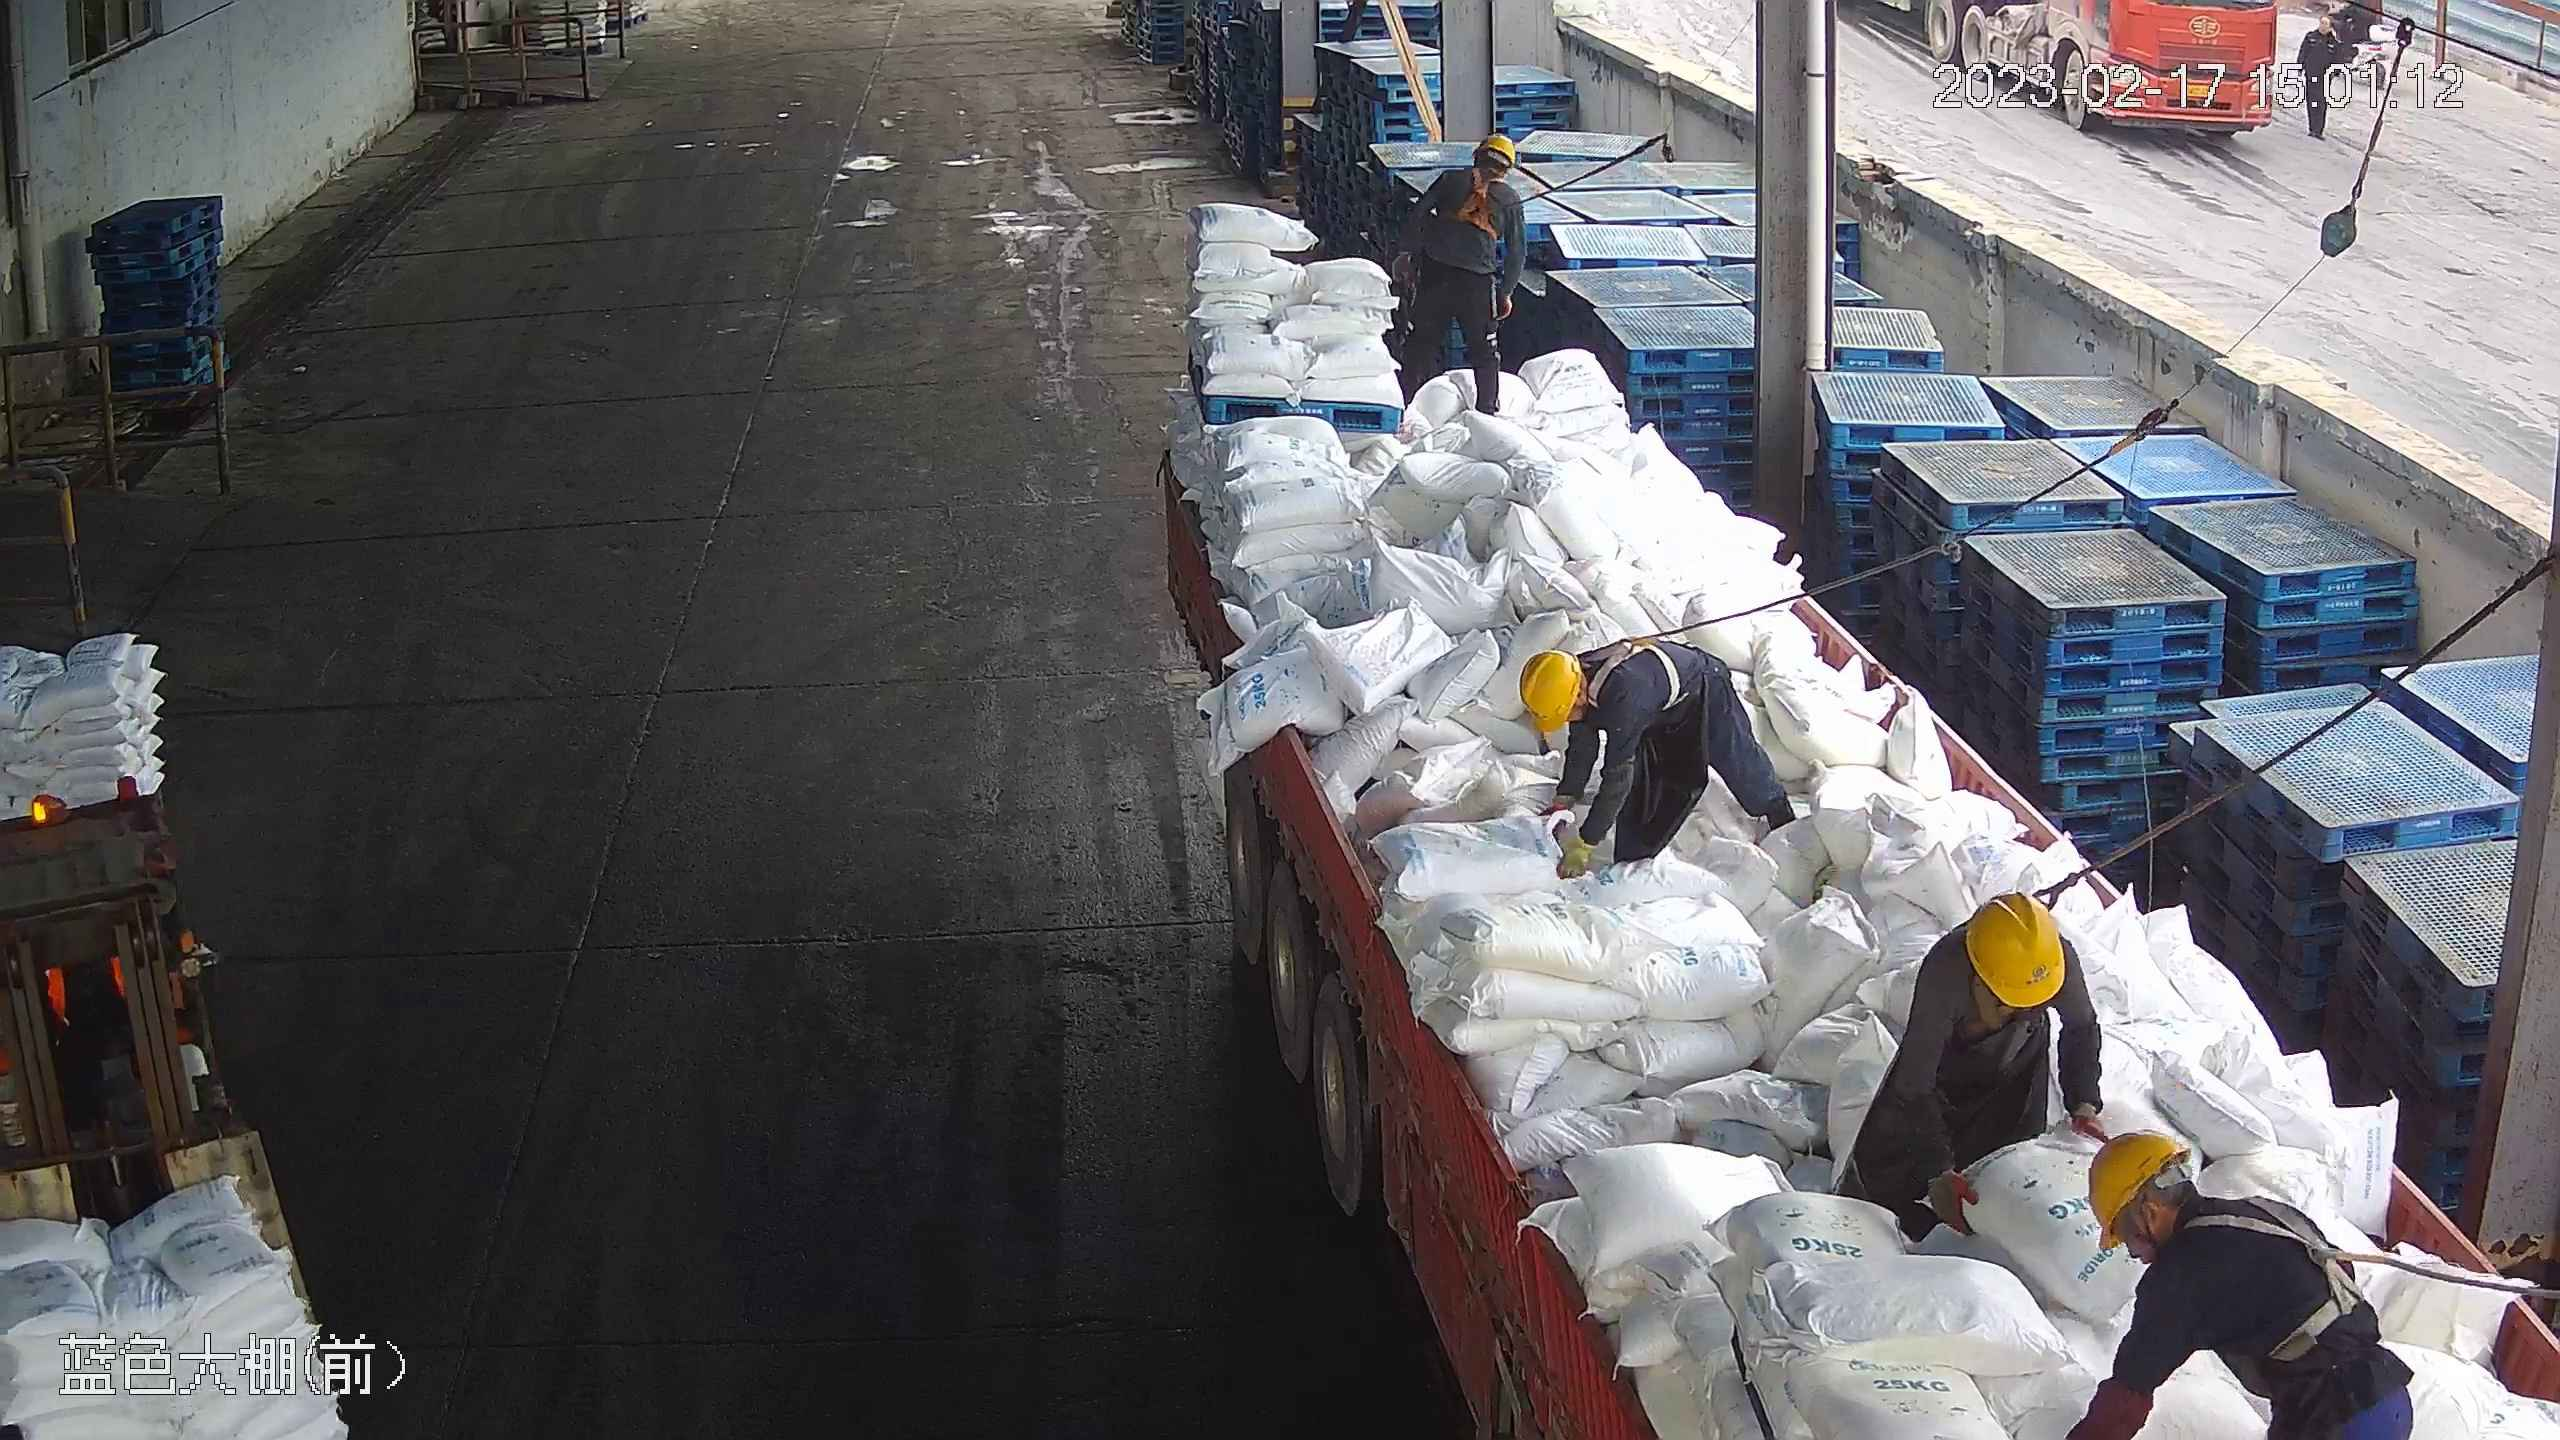belt: (2191, 1188, 2377, 1365), (1584, 619, 1695, 714), (1436, 163, 1515, 234)
head: (2075, 1126, 2328, 1294), (1911, 888, 2096, 1040), (1514, 633, 1656, 755), (1428, 131, 1529, 215)
helmet: (2080, 1127, 2195, 1240), (1975, 891, 2064, 1011), (1518, 650, 1578, 734), (1473, 131, 1521, 168)
people: (2058, 1122, 2392, 1440), (1841, 888, 2110, 1243), (1512, 629, 1794, 881), (1379, 127, 1535, 422)
truck: (1143, 125, 2556, 1440)
